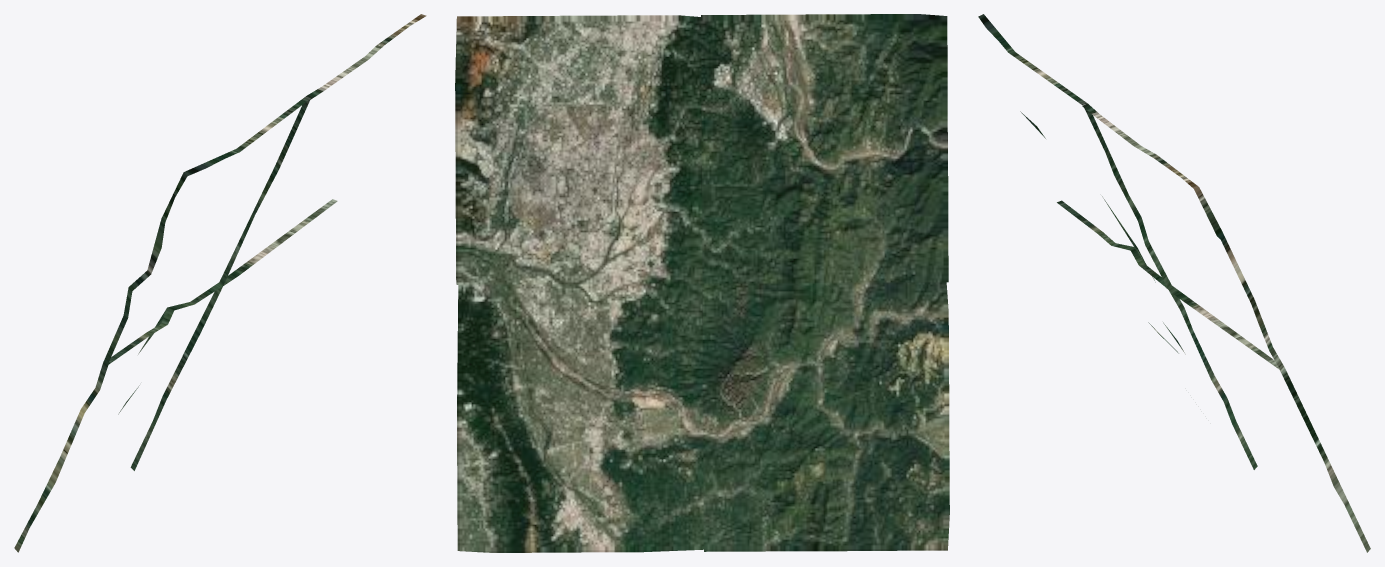
3 renders of one model, left to right at view 1: azimuth 30°, elevation 25°; view 2: azimuth 150°, elevation 25°; view 3: azimuth 270°, elevation 25°, orthographic. The views are drawn at different scales.
Size of the model in its own units: 39588 by 36695 by 31438.
1 material, 1 textured.
